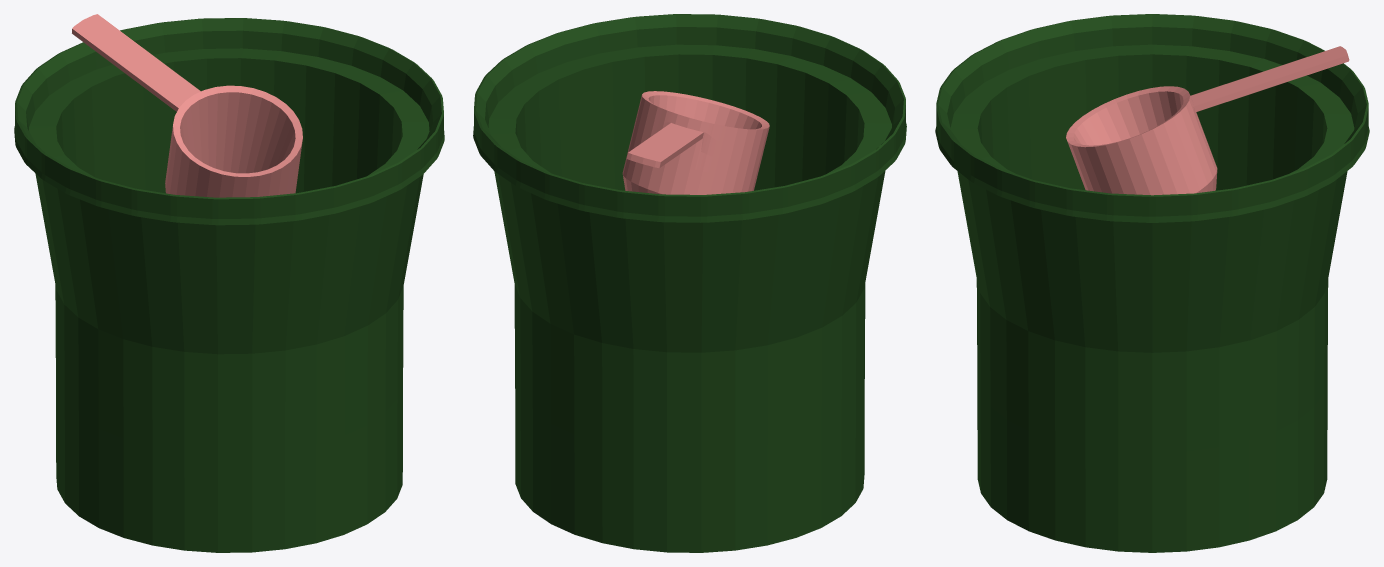
Rendered from Tumba.fbx.
3 renders of one model, left to right at view 1: azimuth 30°, elevation 25°; view 2: azimuth 150°, elevation 25°; view 3: azimuth 270°, elevation 25°, orthographic.
Visible parts, largest first — view 1: Timba, Tabo; view 2: Timba, Tabo; view 3: Timba, Tabo.
Boxes of the visible parts, bbox=[...] form: Timba: bbox=[14, 18, 444, 552]; Tabo: bbox=[72, 14, 302, 197]; Timba: bbox=[473, 14, 906, 552]; Tabo: bbox=[622, 91, 769, 194]; Timba: bbox=[935, 14, 1369, 552]; Tabo: bbox=[1066, 46, 1349, 195].
Bounding box in the file's own units: 196 × 203 × 196.
